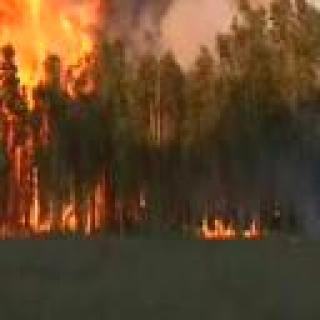fire: (0, 0, 123, 232), (198, 220, 273, 240)
